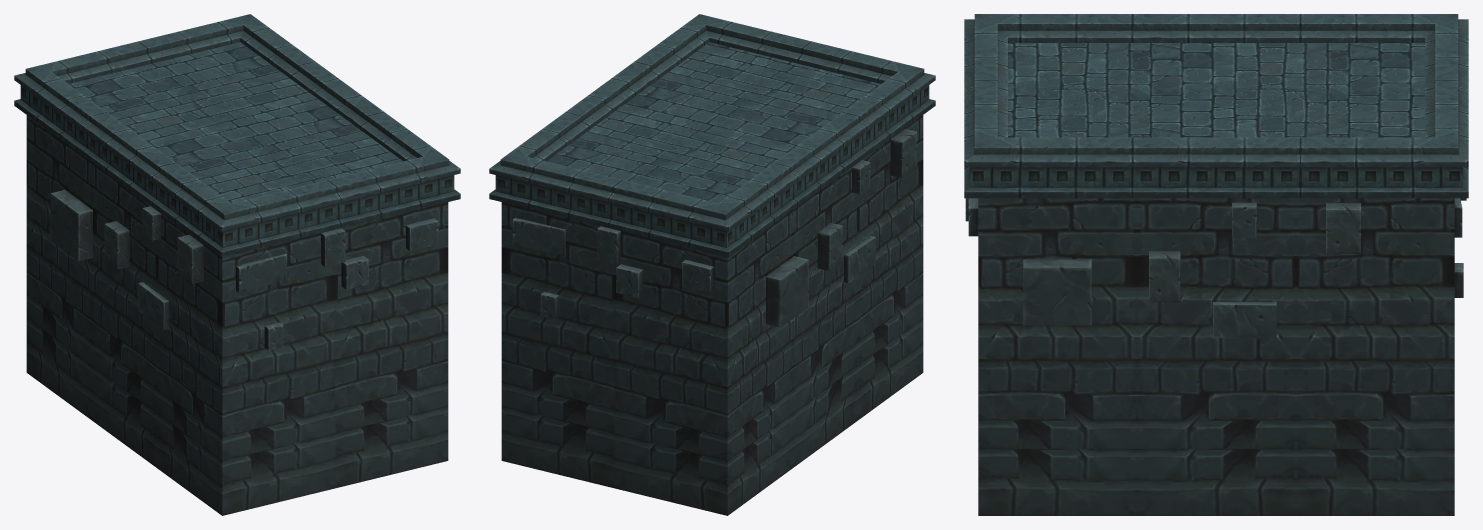
File: Stage_DiXiaCheng_PingTai05.FBX
3 views of the same model, side by side, from view 1: azimuth 30°, elevation 25°; view 2: azimuth 150°, elevation 25°; view 3: azimuth 270°, elevation 25° (orthographic). The views are drawn at different scales.
Parts seen in each view (by area): view 1: Stage_DiXiaCheng_PingTai05; view 2: Stage_DiXiaCheng_PingTai05; view 3: Stage_DiXiaCheng_PingTai05.
Boxes of the visible parts, x1,y1,x2,y2 form: Stage_DiXiaCheng_PingTai05: (14, 14, 460, 515); Stage_DiXiaCheng_PingTai05: (489, 14, 935, 515); Stage_DiXiaCheng_PingTai05: (964, 14, 1468, 515).
Size of the model in its own units: 1279 by 1450 by 1800.
